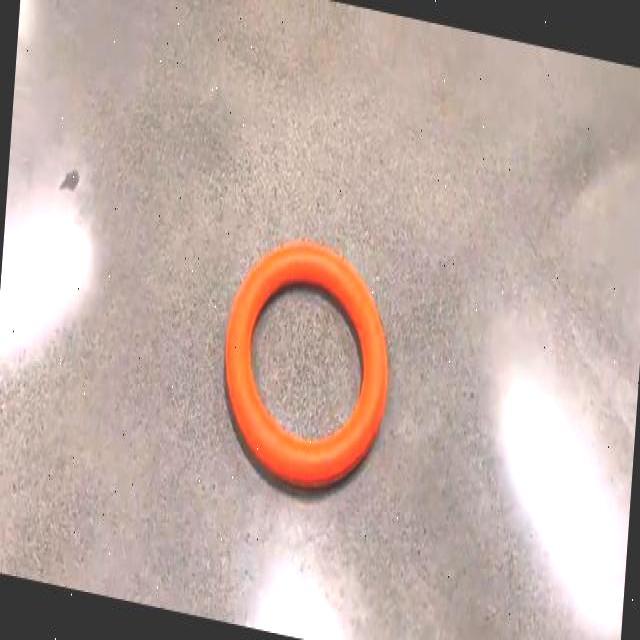note: (226, 243, 385, 487)
